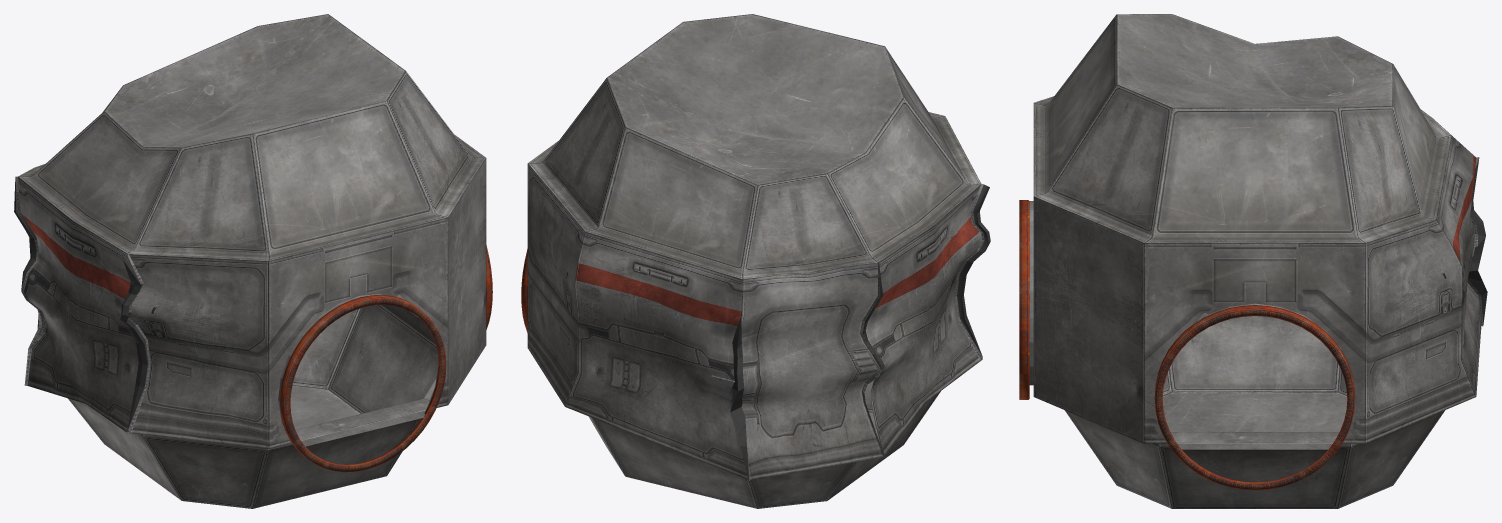
Rendered from tau_8sided_room_2doors_crumbling.dae.
3 views of the same model, side by side, from view 1: azimuth 30°, elevation 25°; view 2: azimuth 150°, elevation 25°; view 3: azimuth 270°, elevation 25° (orthographic). The views are drawn at different scales.
Parts seen in each view (by area): view 1: polySurface374, pPipe70, polySurface386; view 2: polySurface374; view 3: polySurface374, pPipe69, pPipe70, polySurface385, polySurface386.
Part boxes in pixels (box(x1,y1,x2,y2)): polySurface374: box(14, 14, 486, 508); pPipe70: box(280, 295, 446, 472); polySurface386: box(278, 294, 438, 446); polySurface374: box(527, 14, 990, 508); polySurface374: box(1033, 14, 1487, 508); pPipe69: box(1154, 305, 1355, 490); pPipe70: box(1019, 200, 1029, 399); polySurface385: box(1168, 303, 1341, 449); polySurface386: box(1029, 201, 1033, 385).
Bounding box in the file's own units: 8.41 × 8 × 8.46.
